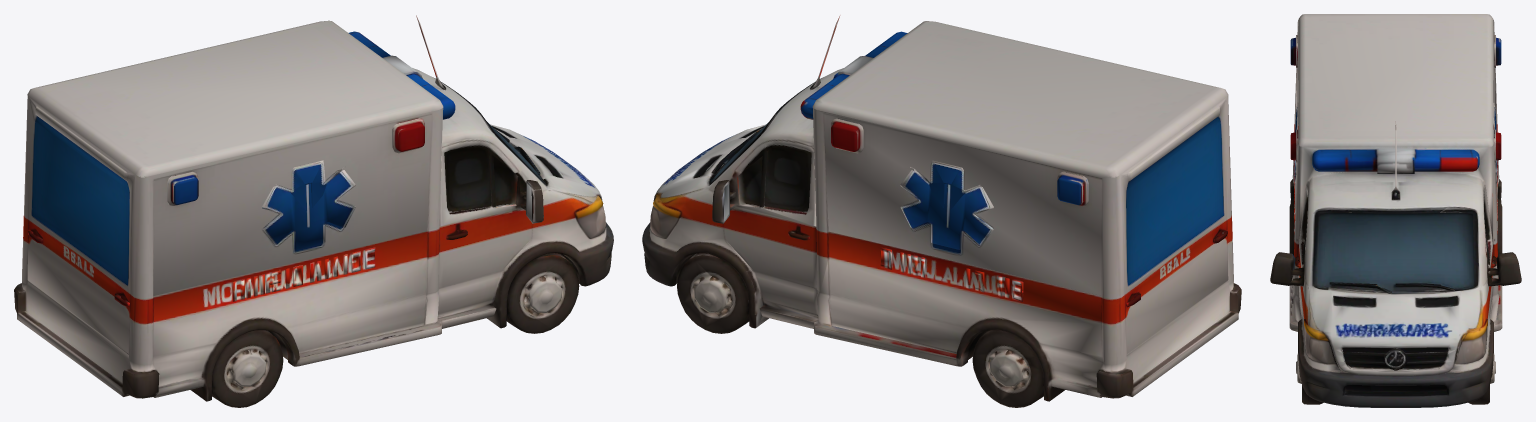
File: Medical__an_ambulance_e3b5e3c4_v4.cluster.glb
The picture shows the model from 3 angles, left to right: view 1: azimuth 30°, elevation 25°; view 2: azimuth 150°, elevation 25°; view 3: azimuth 270°, elevation 25°; orthographic projection. The views are drawn at different scales.
Visible parts, largest first — view 1: material; view 2: material; view 3: material.
Boxes of the visible parts, left/top/right/bottom form: material: left=14, top=15, right=613, bottom=407; material: left=642, top=15, right=1241, bottom=407; material: left=1270, top=14, right=1521, bottom=407.
Size of the model in its own units: 1.9 by 1.06 by 0.9588.
Materials: 1 (1 with a texture image).
